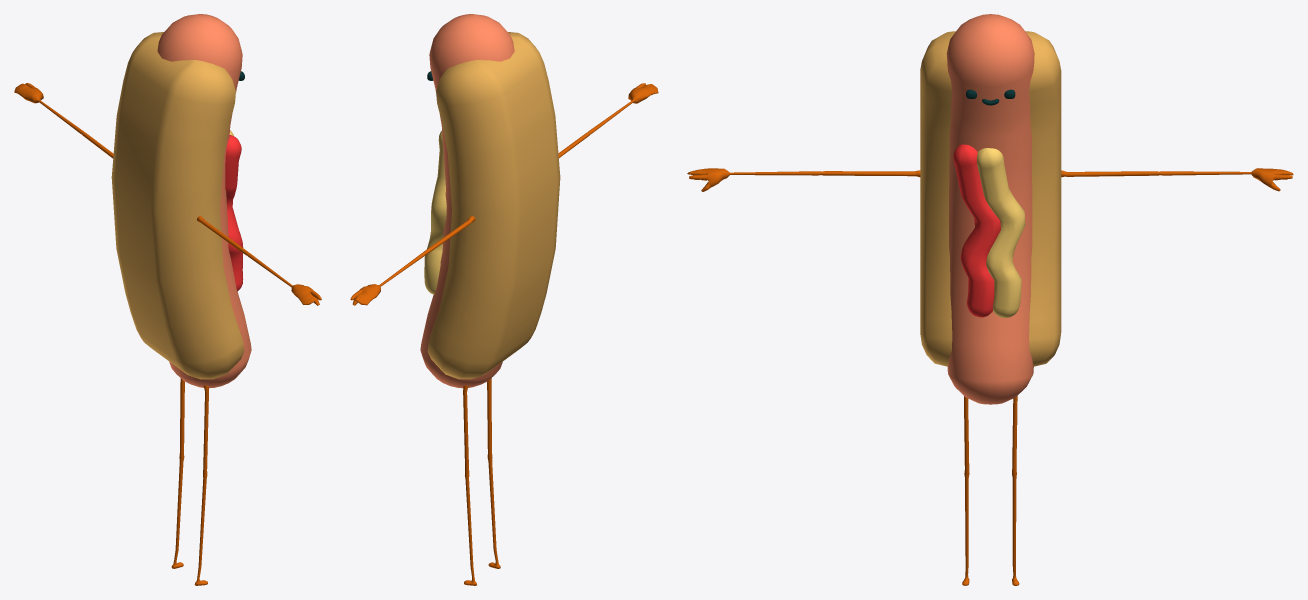
The model's file is Hotdog Character.glb.
The picture shows the model from 3 angles, left to right: view 1: azimuth 30°, elevation 25°; view 2: azimuth 150°, elevation 25°; view 3: azimuth 270°, elevation 25°; orthographic projection. The views are drawn at different scales.
Parts seen in each view (by area): view 1: mesh_char_88; view 2: mesh_char_88; view 3: mesh_char_88.
Part boxes in pixels (bbox=[...]): mesh_char_88: bbox=[14, 14, 321, 585]; mesh_char_88: bbox=[350, 14, 658, 585]; mesh_char_88: bbox=[687, 14, 1293, 585].
Size of the model in its own units: 1.3 by 6.11 by 5.89.
Materials: 1 (1 with a texture image).
